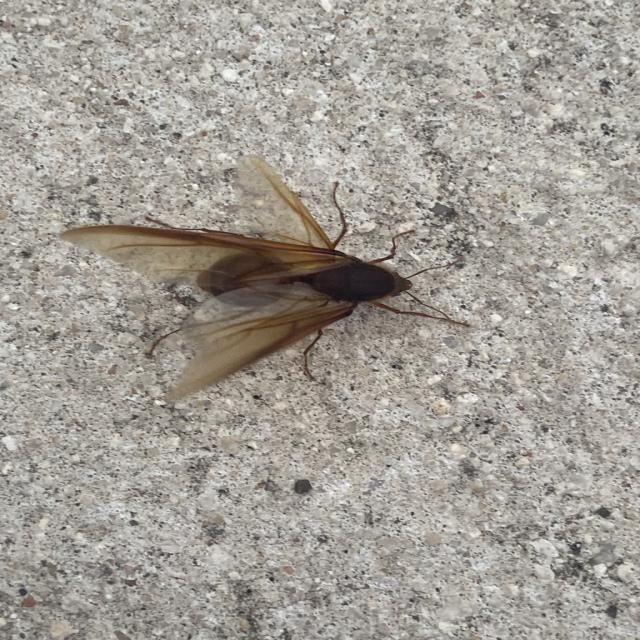Alive-Male-Alate: (58, 154, 473, 402)
